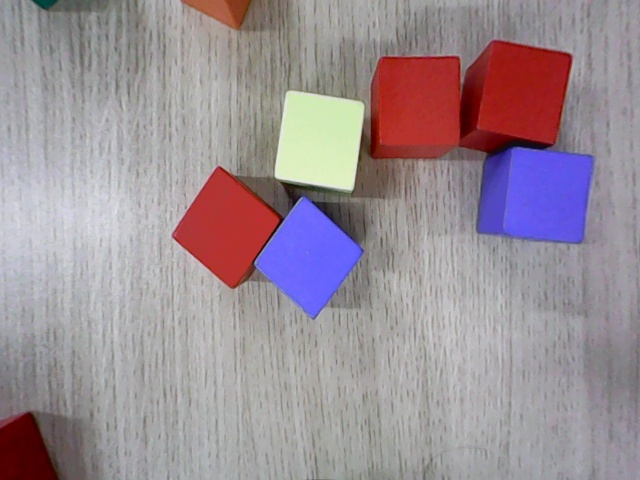upside of small cube: (253, 196, 365, 320), (171, 166, 281, 289), (477, 41, 574, 143), (274, 90, 367, 191), (502, 147, 593, 243), (380, 55, 461, 145)
